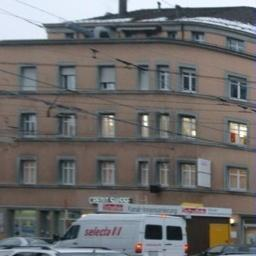building: (43, 7, 215, 243)
